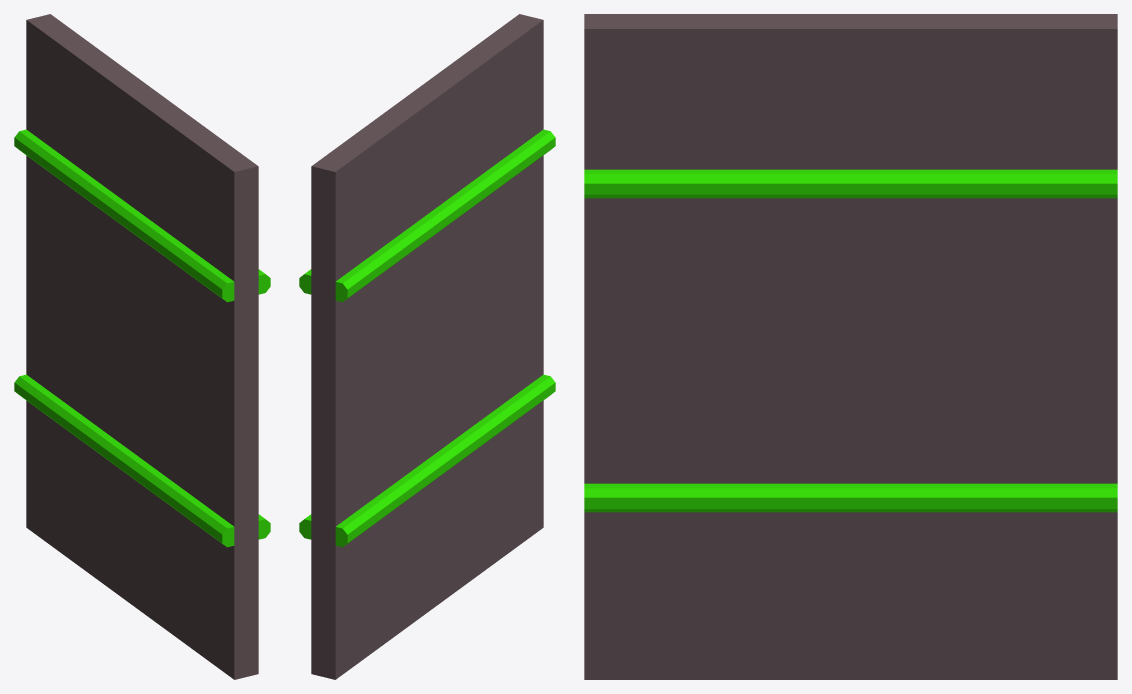
Rendered from Door01.fbx.
The picture shows the model from 3 angles, left to right: view 1: azimuth 30°, elevation 25°; view 2: azimuth 150°, elevation 25°; view 3: azimuth 270°, elevation 25°; orthographic projection. The views are drawn at different scales.
Visible parts, largest first — view 1: Cube.009; view 2: Cube.009; view 3: Cube.009.
Boxes of the visible parts, box(x1,y1,x2,y2) form: Cube.009: box(14, 14, 270, 679); Cube.009: box(299, 14, 555, 679); Cube.009: box(584, 14, 1117, 679).
Size of the model in its own units: 20 by 202 by 150.
